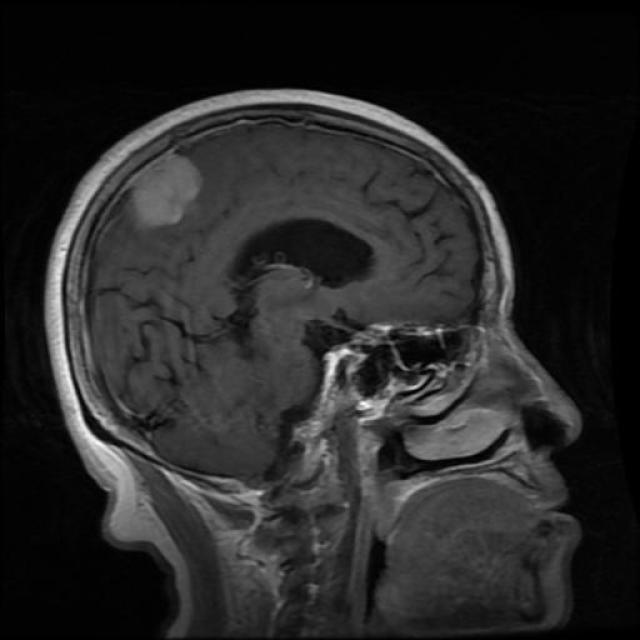meningioma: (139, 152, 195, 224)
